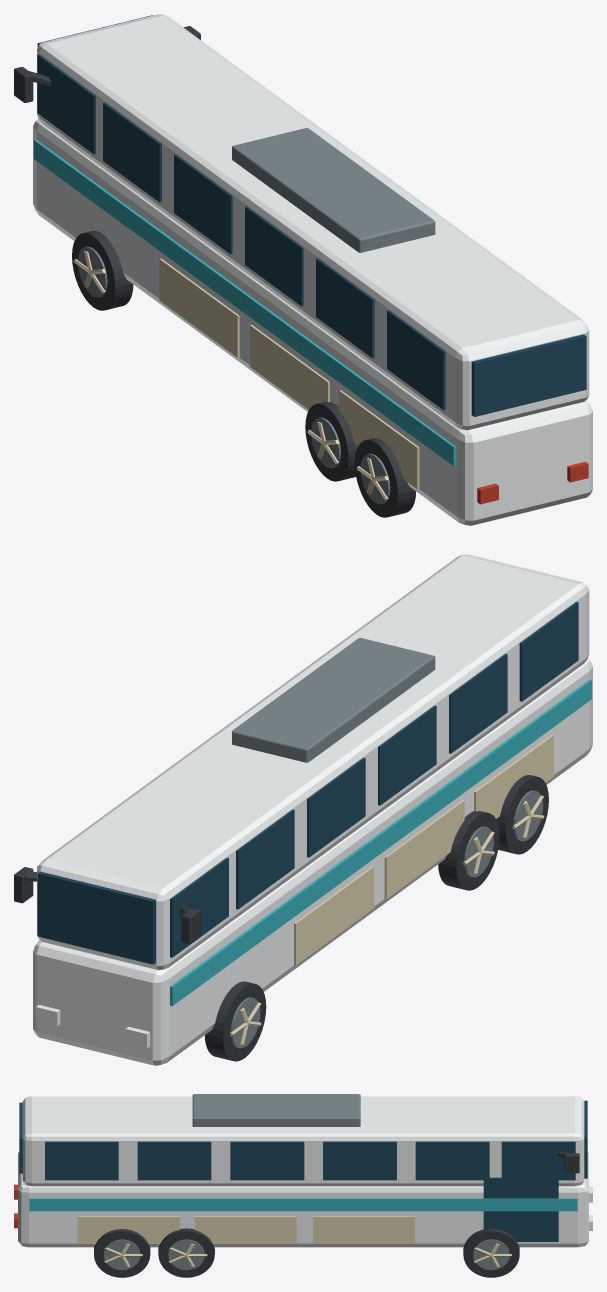
File: coach.glb
The picture shows the model from 3 angles, top to bottom: view 1: azimuth 30°, elevation 25°; view 2: azimuth 150°, elevation 25°; view 3: azimuth 270°, elevation 25°; orthographic projection. The views are drawn at different scales.
Parts seen in each view (by area): view 1: Coach; view 2: Coach; view 3: Coach.
Boxes of the visible parts, left/top/right/bottom form: Coach: left=14, top=14, right=592, bottom=525; Coach: left=14, top=554, right=592, bottom=1065; Coach: left=14, top=1094, right=592, bottom=1277.
Bounding box in the file's own units: 2.9 × 3.55 × 12.6.
